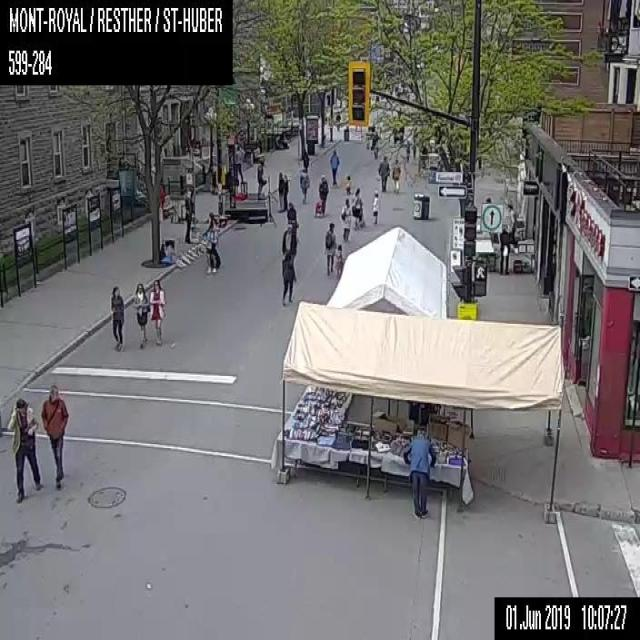pedestrian: (7, 397, 41, 501), (403, 427, 435, 516), (41, 384, 68, 488), (149, 278, 166, 346), (132, 282, 149, 348), (110, 284, 123, 351), (281, 249, 296, 304), (205, 222, 221, 272), (313, 172, 329, 216), (324, 222, 336, 278), (351, 186, 364, 230), (498, 226, 509, 273), (281, 223, 295, 258), (340, 197, 351, 240), (328, 148, 340, 185), (377, 155, 389, 192), (184, 190, 192, 243), (256, 158, 266, 200), (507, 204, 516, 242), (299, 168, 309, 202), (235, 143, 244, 180), (391, 158, 400, 192), (286, 201, 298, 226), (335, 243, 344, 275), (277, 170, 284, 210), (371, 188, 378, 224), (158, 184, 164, 222), (283, 173, 288, 210), (344, 174, 351, 194), (392, 132, 403, 144), (302, 152, 308, 170), (335, 110, 340, 129), (410, 143, 416, 158), (405, 141, 409, 161)
